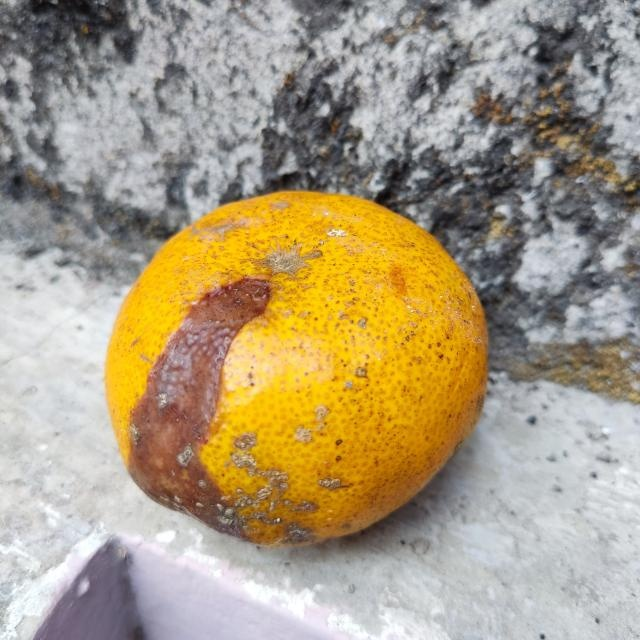agrume: (102, 188, 490, 545)
